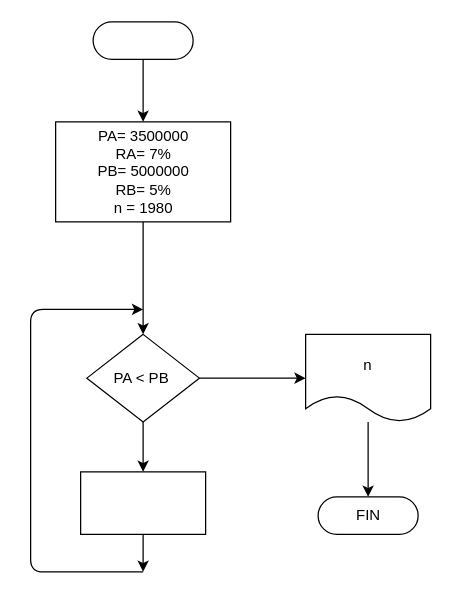
The diagram is 453 pixels wide and 604 high, and some of its shapes have lost their labels. The centre of each missing label's shape, as x and y in pixels:
"INICIO" belongs at [142,40].
"PA=(PA*0.07)+PA PB=(PB*0.05)+PB n = n+1" belongs at [142,502].
